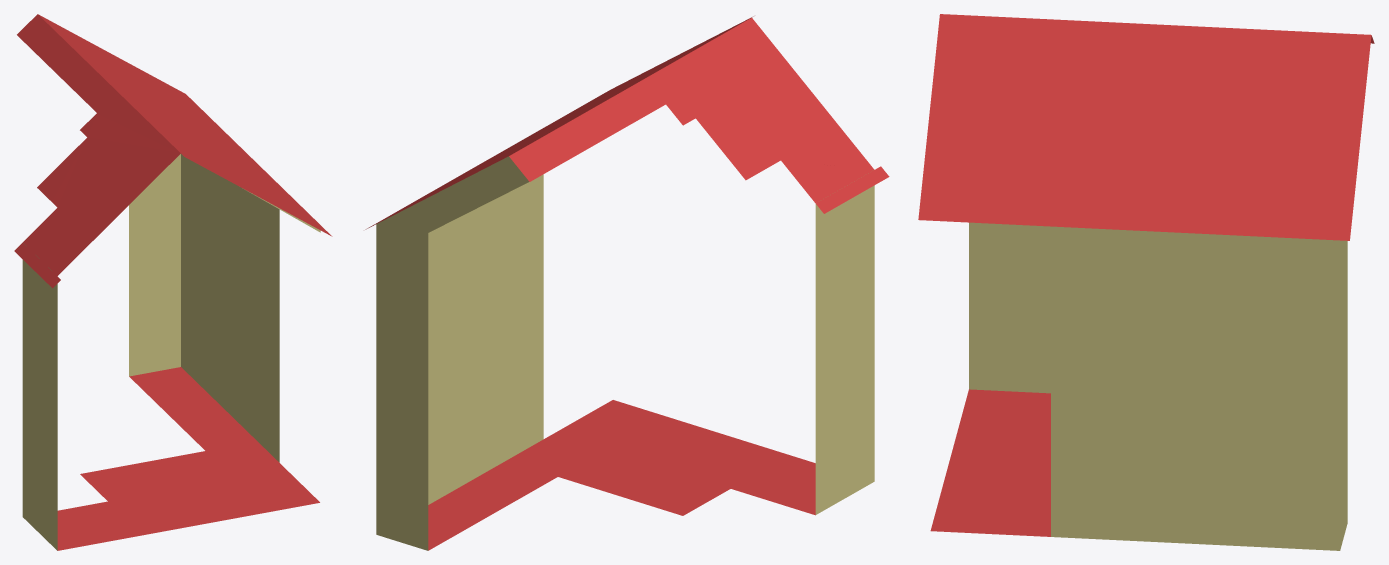
3 views of the same model, side by side, from view 1: azimuth 30°, elevation 25°; view 2: azimuth 150°, elevation 25°; view 3: azimuth 270°, elevation 25° (orthographic). The views are drawn at different scales.
Size of the model in its own units: 9.21 by 10.33 by 11.03.
